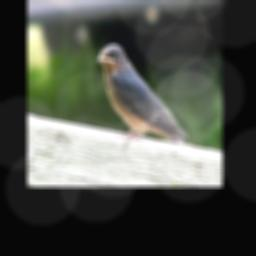Swallow: (97, 43, 189, 150)
